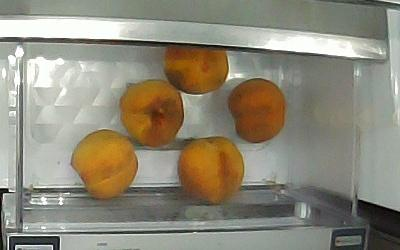peach: (71, 128, 138, 199), (120, 80, 185, 147), (179, 137, 244, 204), (226, 78, 286, 143), (162, 47, 229, 95)
